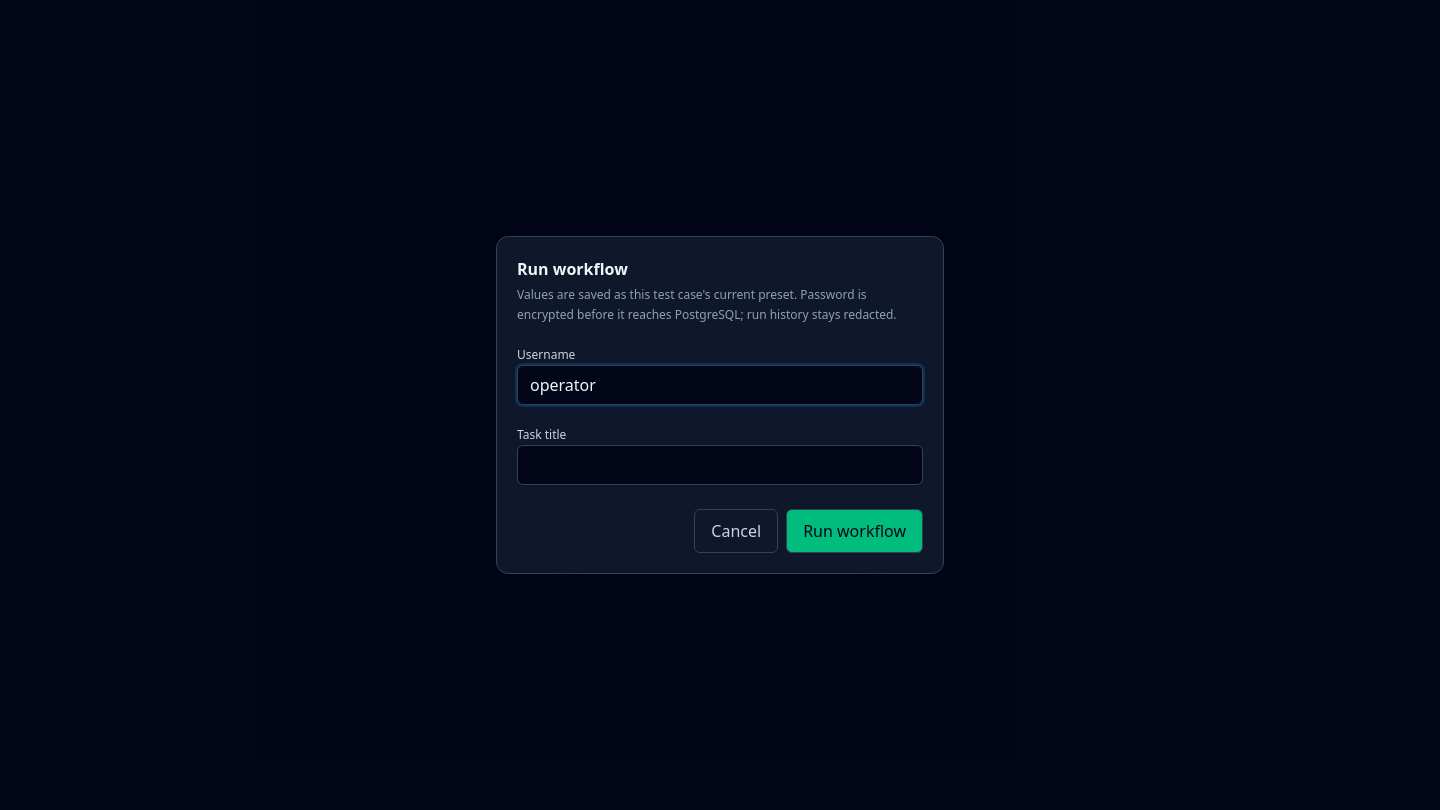
keeps values and displays field errors when Run fails
The width and height of the screenshot is (1440, 810).
Click the button "Run workflow" at (855, 531), box [786,509,923,553]
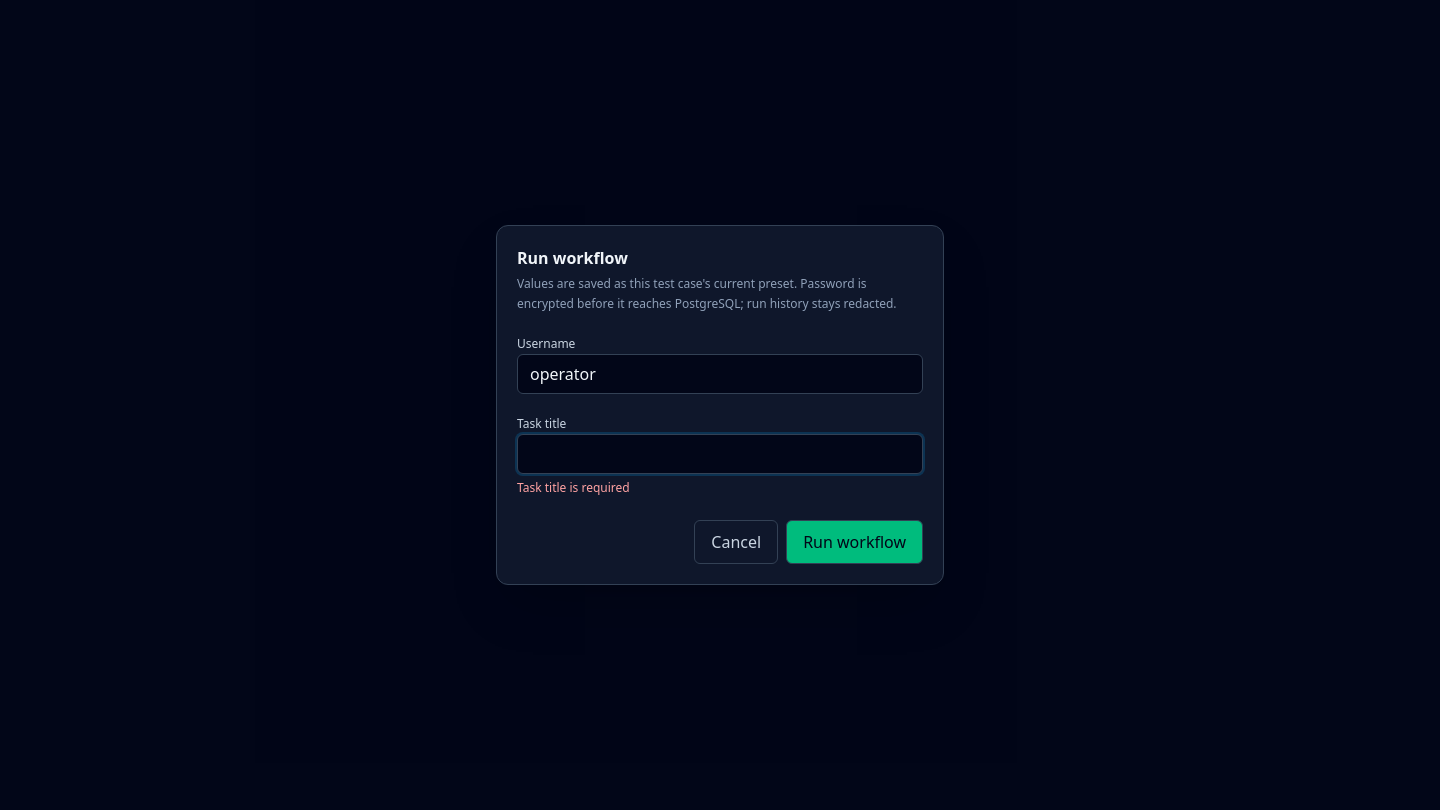
Check: the field showing "operator" is shown, box [517,354,923,394]
Check: the message reads "Task title is required", box [517,479,630,496]
